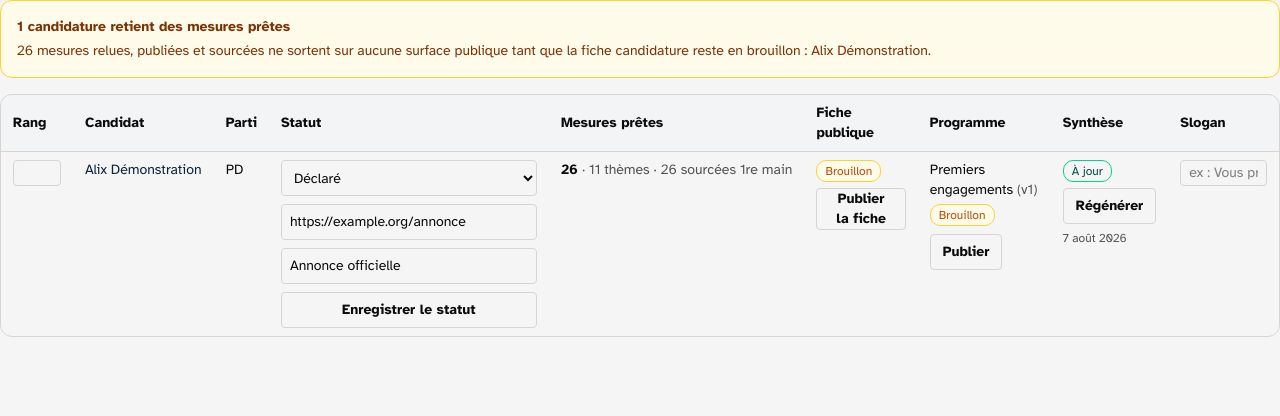
Test: CandidatesListClient › affiche l'échec d'une action au lieu de le taire
The image size is (1280, 416).
Click the button "Publier la fiche": (861,209) [816,188,906,230]
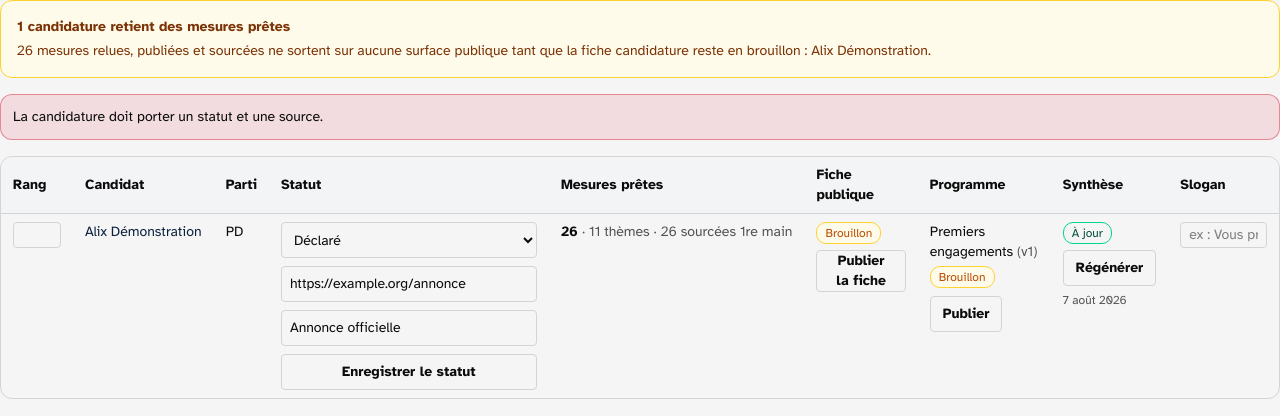
Now the message "La candidature doit porter un statut et une source." is shown, box [0,94,1279,140]
